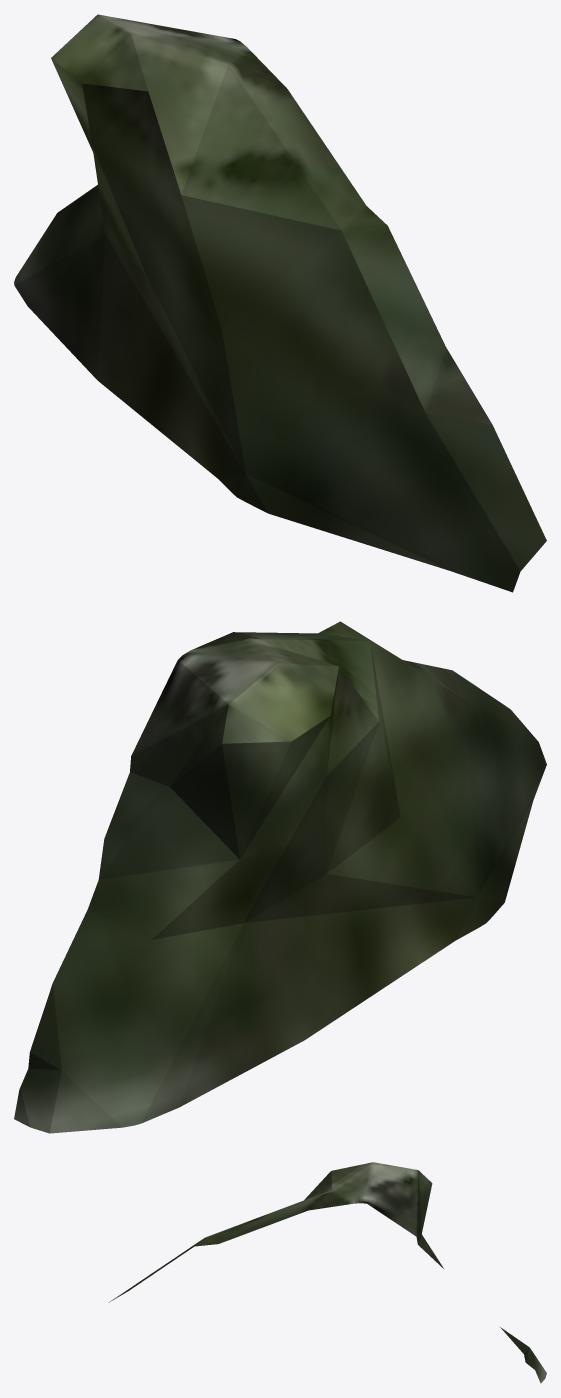
3 views of the same model, one above another, from view 1: azimuth 30°, elevation 25°; view 2: azimuth 150°, elevation 25°; view 3: azimuth 270°, elevation 25° (orthographic). The views are drawn at different scales.
Size of the model in its own units: 0.1091 by 0.241 by 0.5993.
Materials: 1 (1 with a texture image).
